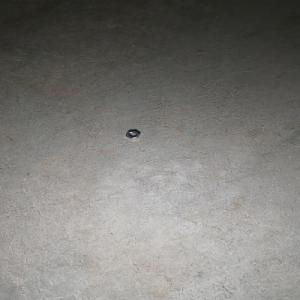Nut: (124, 130, 140, 139)
